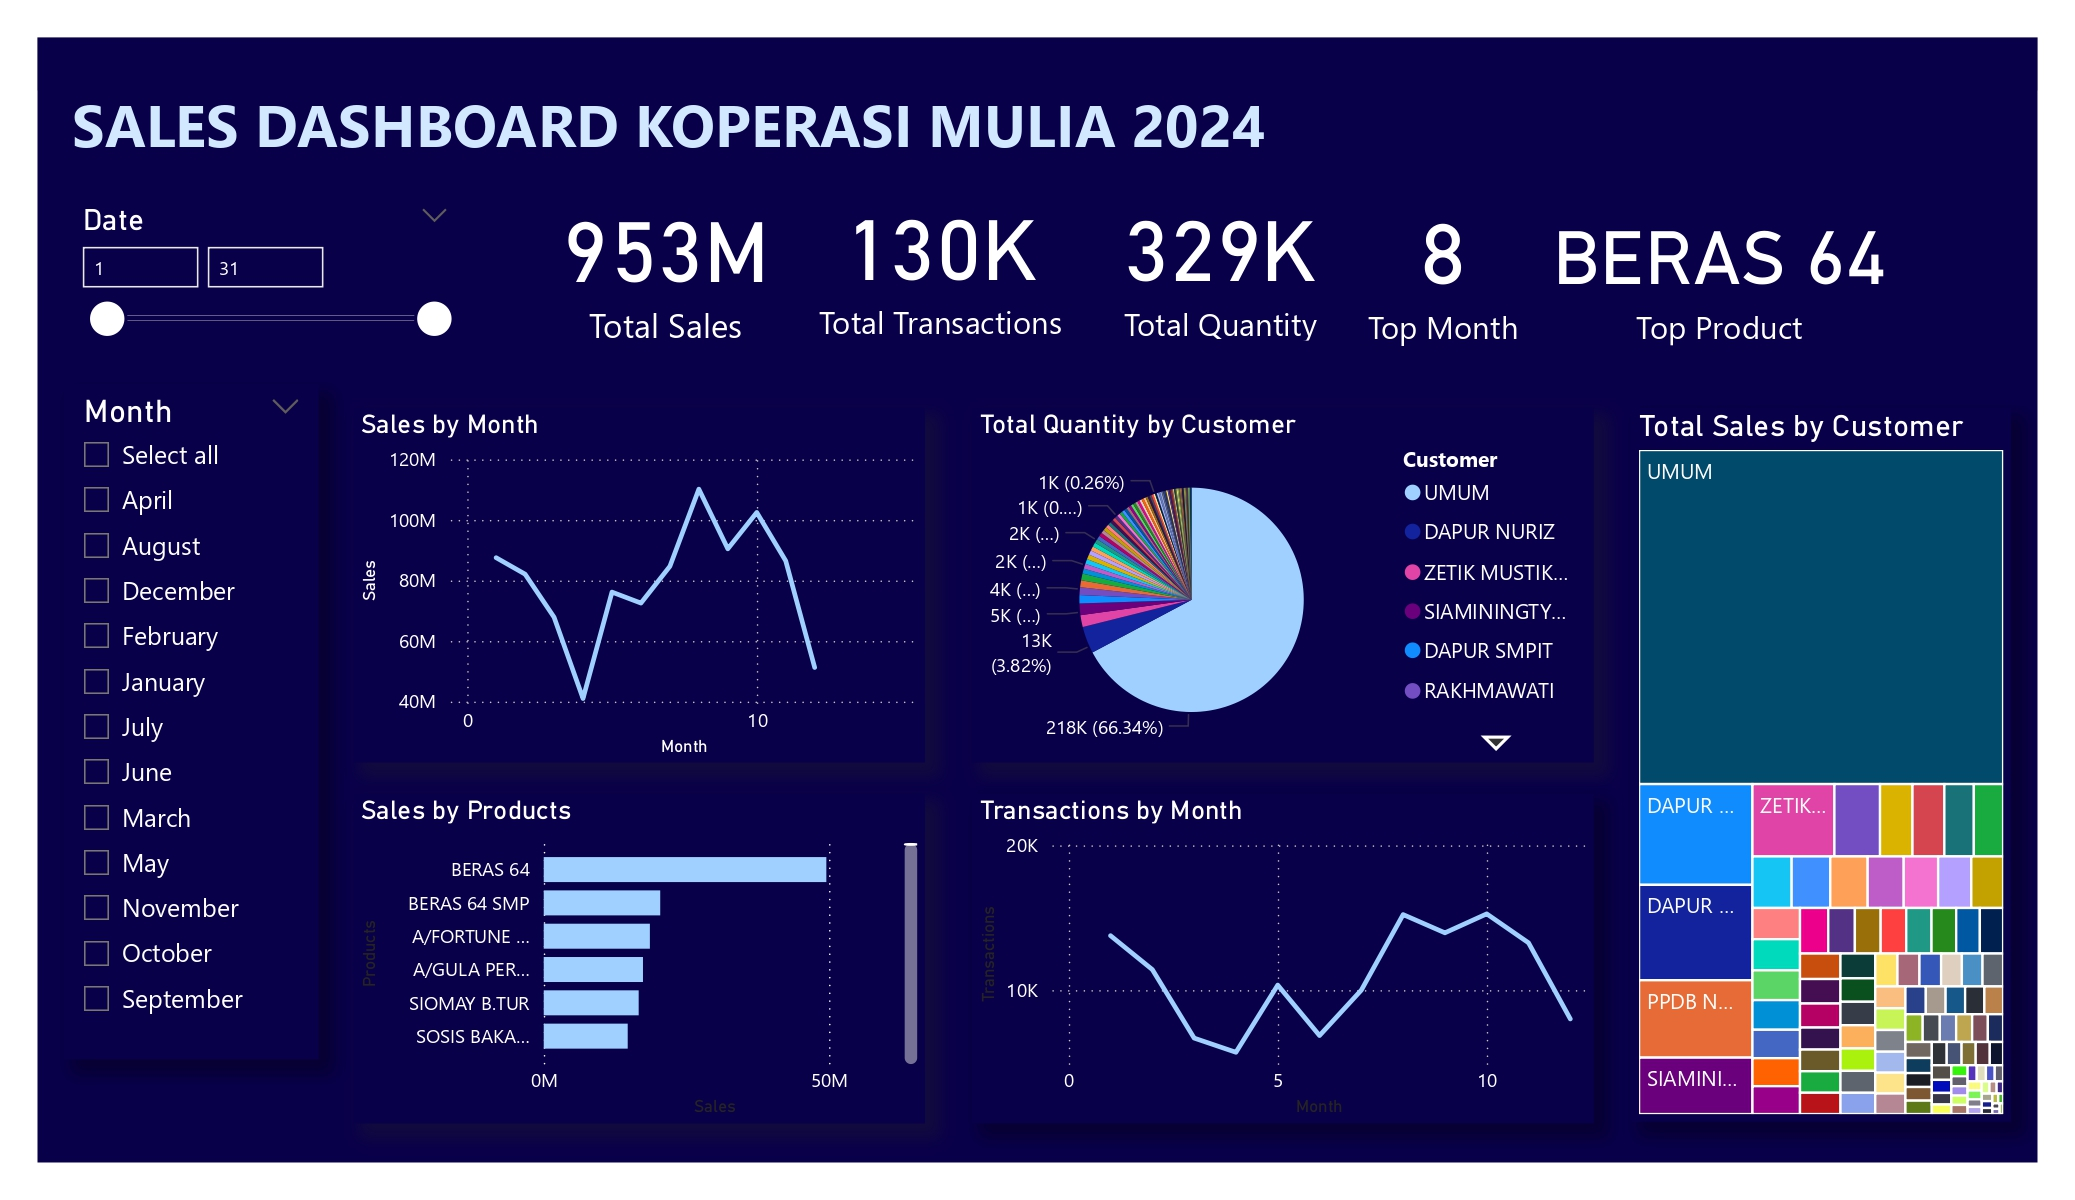

The page's visual inventory and layout, read from the dashboard file:
{"tool":"powerbi","page":{"name":"Main Dashboard","canvas":[1280,720],"ordinal":0},"visuals":[{"type":"card","title":"T","fields":{"Values":["Sum(Table1.SUB TOTAL JUAL)"]},"box":[317.8,70.1,168.6,130.2],"z":0},{"type":"card","fields":{"Values":["Table1.Total Transaksi"]},"box":[472.7,70.1,210.3,145.2],"z":1000},{"type":"card","fields":{"Values":["Table1.Total Quantity"]},"box":[672.9,88.4,168.6,110.1],"z":2000},{"type":"treemap","fields":{"Group":["Table1.CUSTOMER"],"Values":["Sum(Table1.SUB TOTAL JUAL)"]},"box":[1019.7,237,243.7,457.3],"z":5000},{"type":"slicer","fields":{"Values":["Table1.TANGGAL"]},"box":[16.1,100,258.9,158.9],"z":6000},{"type":"slicer","fields":{"Values":["Table1.BULAN"]},"box":[16.7,222,163.5,432.2],"z":7000},{"type":"lineChart","fields":{"Category":["Table1.NomorBulan"],"Y":["Sum(Table1.SUB TOTAL JUAL)"]},"box":[201.8,237.5,366.1,226.8],"z":8000},{"type":"pieChart","fields":{"Category":["Table1.CUSTOMER"],"Y":["Table1.Total Quantity"]},"box":[598.2,237.5,398.2,226.8],"z":9000},{"type":"barChart","fields":{"Category":["Table1.NAMA BARANG"],"Y":["Sum(Table1.SUB TOTAL JUAL)"]},"box":[201.8,483.9,366.1,210.7],"z":10000},{"type":"lineChart","fields":{"Category":["Table1.NomorBulan"],"Y":["Table1.Total Transaksi"]},"box":[598.2,483.9,398.2,210.7],"z":11000},{"type":"card","fields":{"Values":["Table1.Produk Terlaris"]},"box":[949.1,95.1,255.3,106.8],"z":14250},{"type":"card","fields":{"Values":["Table1.BulanTertinggi"]},"box":[832.3,81.8,135.2,126.8],"z":17500},{"type":"textbox","box":[16.7,25,804.4,63.4],"z":17501}]}

Visuals, with their boxes on the page's 1280x720 design canvas (x1, y1, x2, y2). These are canvas units, not pixel positions in the 2075x1200 screenshot, which may show the page scaled, cropped or inside an application window:
"T" card: bbox(318, 70, 486, 200)
card - Table1.Total Transaksi: bbox(473, 70, 683, 215)
card - Table1.Total Quantity: bbox(673, 88, 842, 198)
treemap - Table1.CUSTOMER x Sum(Table1.SUB TOTAL JUAL): bbox(1020, 237, 1263, 694)
slicer - Table1.TANGGAL: bbox(16, 100, 275, 259)
slicer - Table1.BULAN: bbox(17, 222, 180, 654)
lineChart - Table1.NomorBulan x Sum(Table1.SUB TOTAL JUAL): bbox(202, 238, 568, 464)
pieChart - Table1.CUSTOMER x Table1.Total Quantity: bbox(598, 238, 996, 464)
barChart - Table1.NAMA BARANG x Sum(Table1.SUB TOTAL JUAL): bbox(202, 484, 568, 695)
lineChart - Table1.NomorBulan x Table1.Total Transaksi: bbox(598, 484, 996, 695)
card - Table1.Produk Terlaris: bbox(949, 95, 1204, 202)
card - Table1.BulanTertinggi: bbox(832, 82, 968, 209)
textbox: bbox(17, 25, 821, 88)
